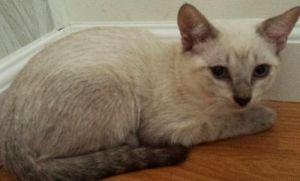siamese: (174, 1, 300, 126)
